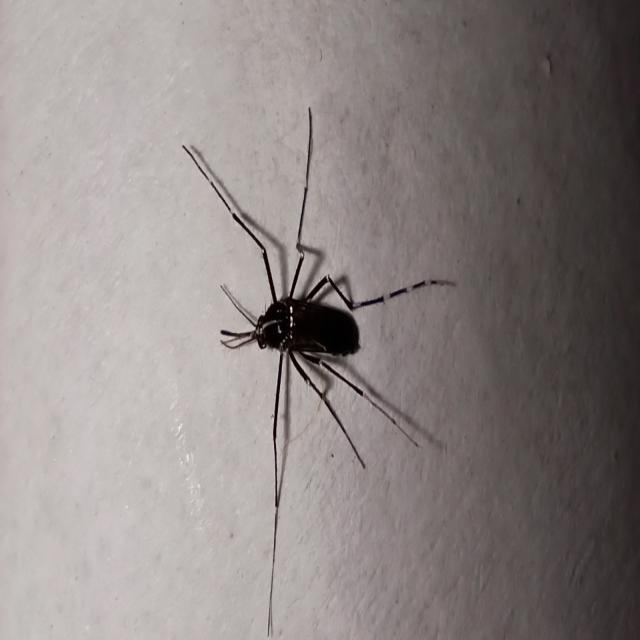albopictus: (184, 86, 458, 591)
